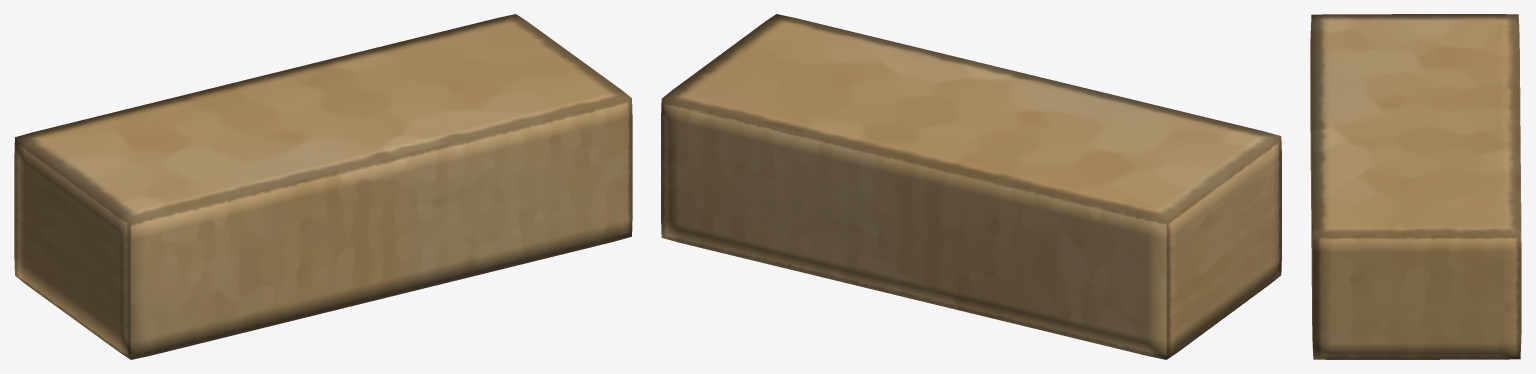
Rendered from BedBox_SD.fbx.
3 renders of one model, left to right at view 1: azimuth 30°, elevation 25°; view 2: azimuth 150°, elevation 25°; view 3: azimuth 270°, elevation 25°, orthographic. The views are drawn at different scales.
Visible parts, largest first — view 1: Decoration; view 2: Decoration; view 3: Decoration.
Boxes of the visible parts, x1,y1,x2,y2 form: Decoration: [14, 14, 632, 359]; Decoration: [661, 14, 1281, 359]; Decoration: [1310, 14, 1521, 359].
Size of the model in its own units: 1502 by 400 by 605.
